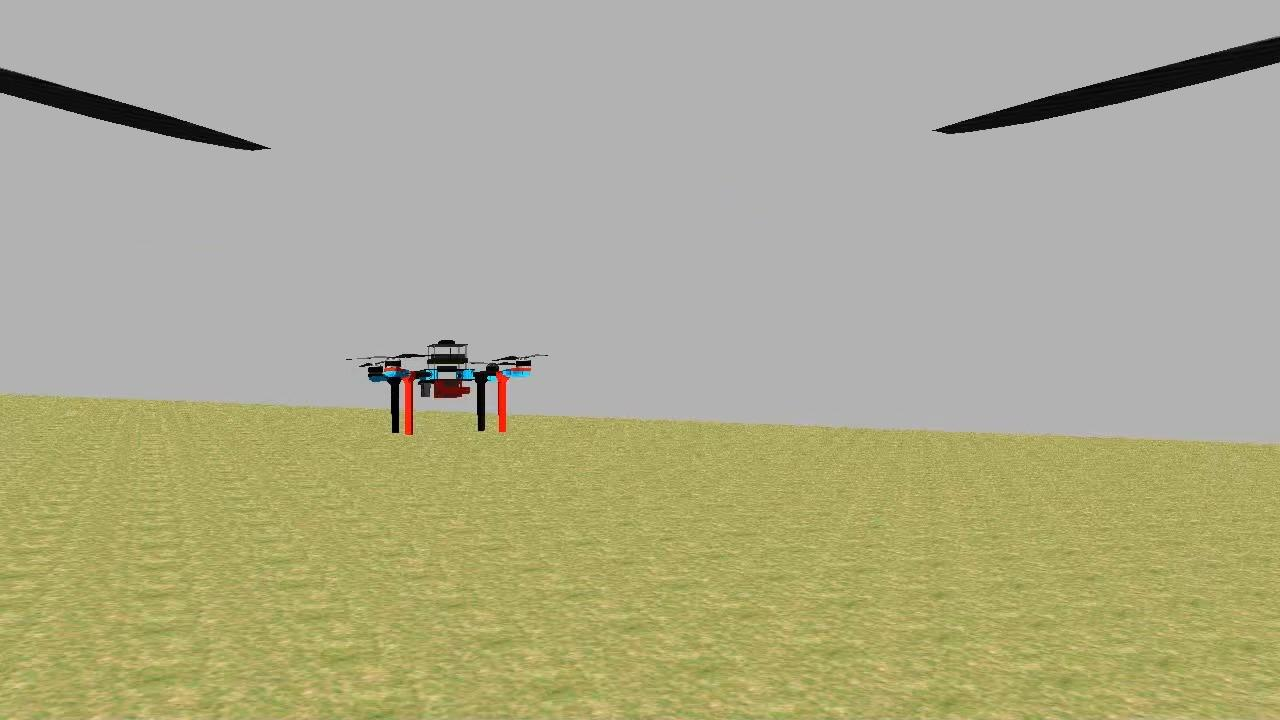UAV: (360, 332, 537, 438)
